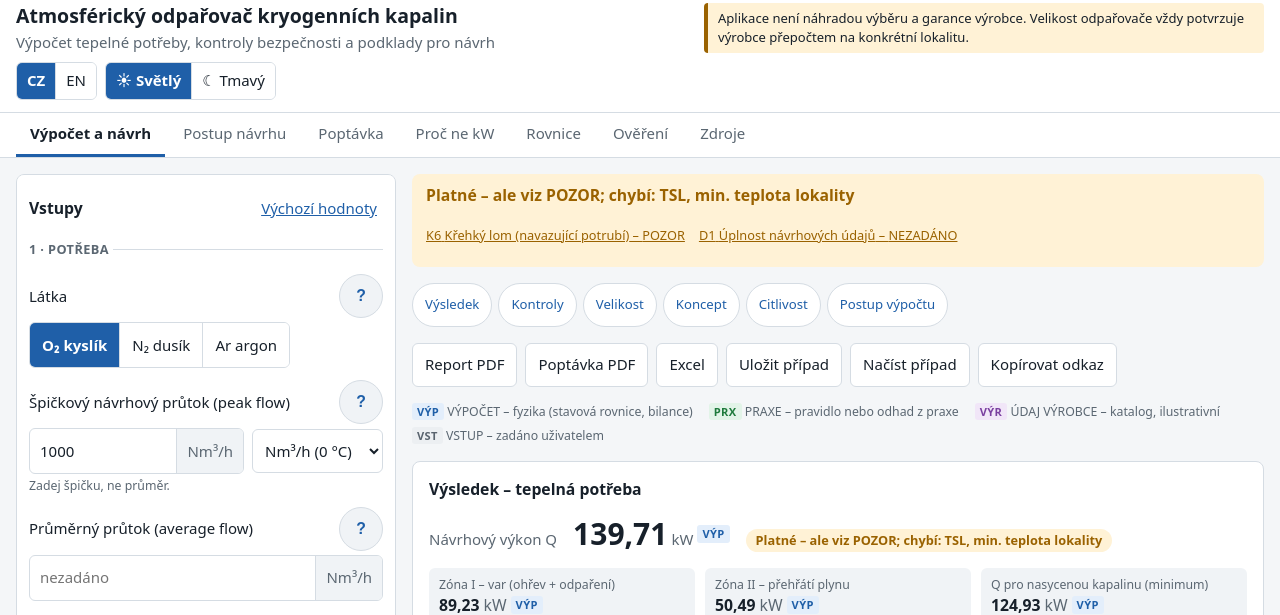
argon v UI › volba Ar: −186 °C, rozsah 1–40 bar a, sloupec LAR, Q a N_eq podle reference z CoolProp
The image size is (1280, 615).
Click the radio button labelled "Ar argon".
click(246, 346)  # box [203, 324, 289, 368]
(page scrolled)
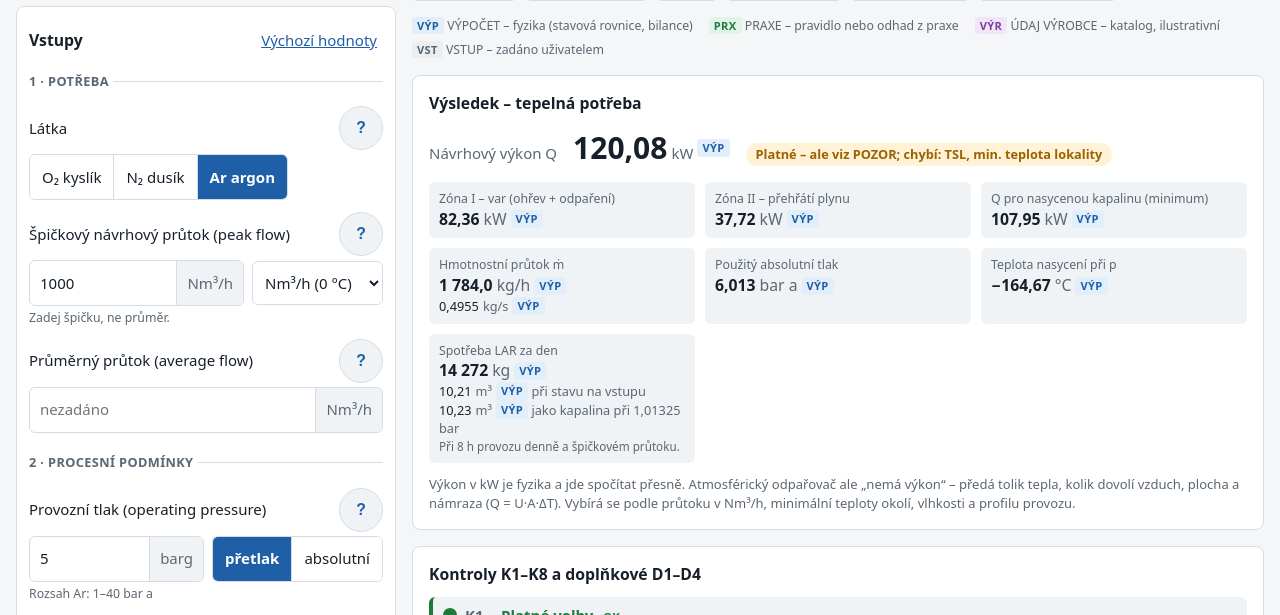
Result: the text "Rozsah Ar: 1–40 bar a" is shown at [29, 585, 153, 602]
Result: the text "Spotřeba LAR za den" is shown at [439, 342, 558, 359]
